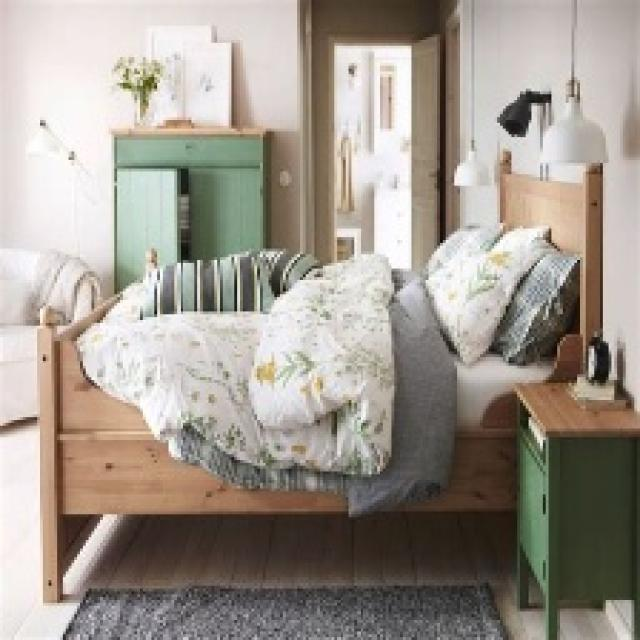Bed: (37, 149, 603, 600)
